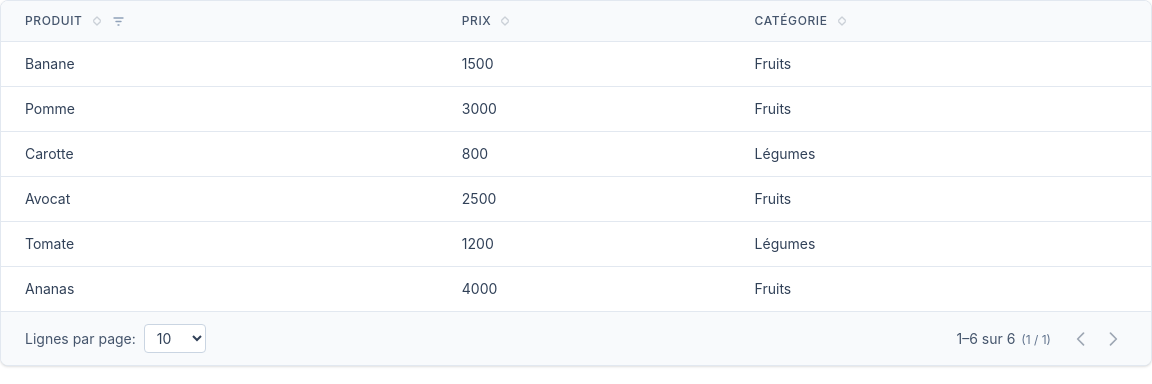
Test: ResponsiveDataTable — Upgrade & Robustesse › Tri 3 états (asc ➔ desc ➔ neutre) › cycle correctement entre ascendant, descendant et neutre sur clic header
Clic 1 : ascendant (Ananas, Avocat, Banane, Carotte, Pomme, Tomate)
Click the text "Produit" at (54, 21), box [25,13,82,29]
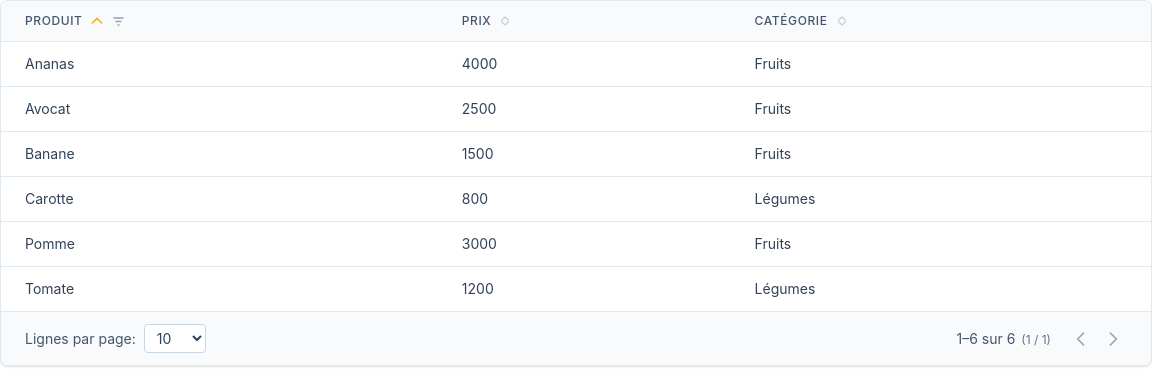
Expected: the text "Ananas" is shown, [1,42,438,86]
Clic 2 : descendant (Tomate, Pomme, Carotte, Banane, Avocat, Ananas)
Click the text "Produit" at (54, 21), box [25,13,82,29]
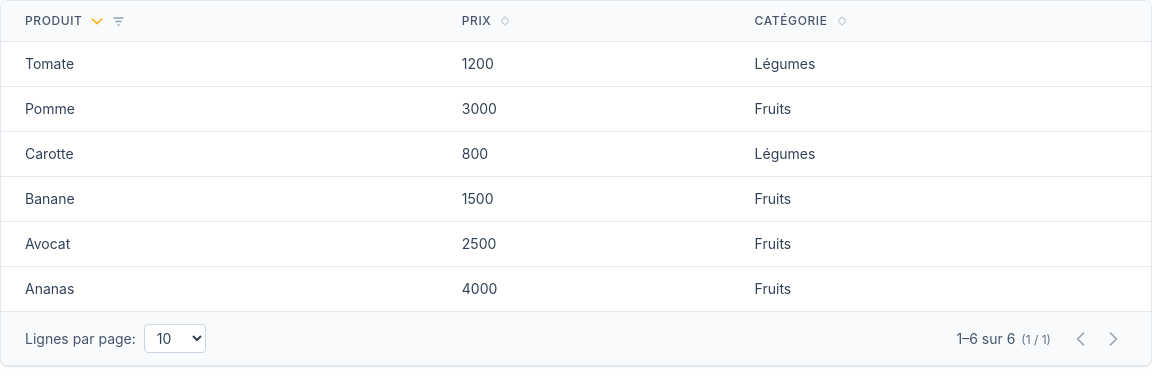
Expected: the text "Tomate" is shown, [1,42,438,86]
Clic 3 : neutre (redevient l'ordre original : Banane en premier)
Click the text "Produit" at (54, 21), box [25,13,82,29]
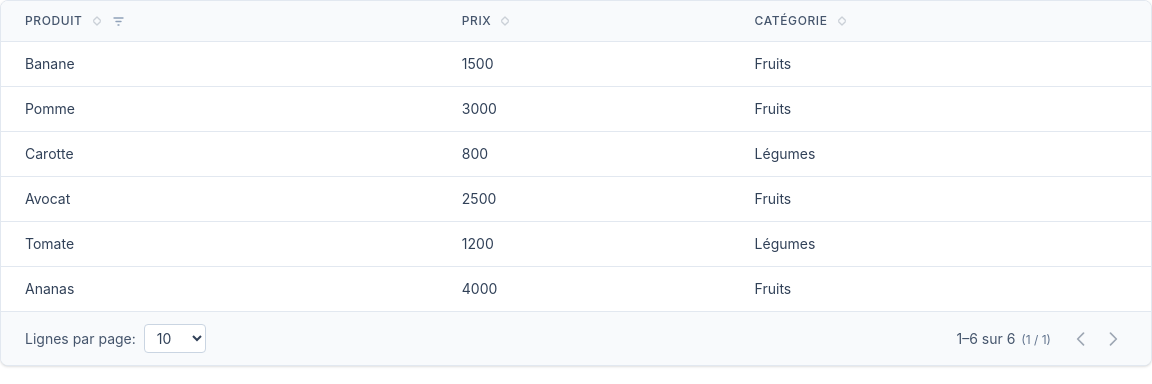
Expected: the text "Banane" is shown, [1,42,438,86]
